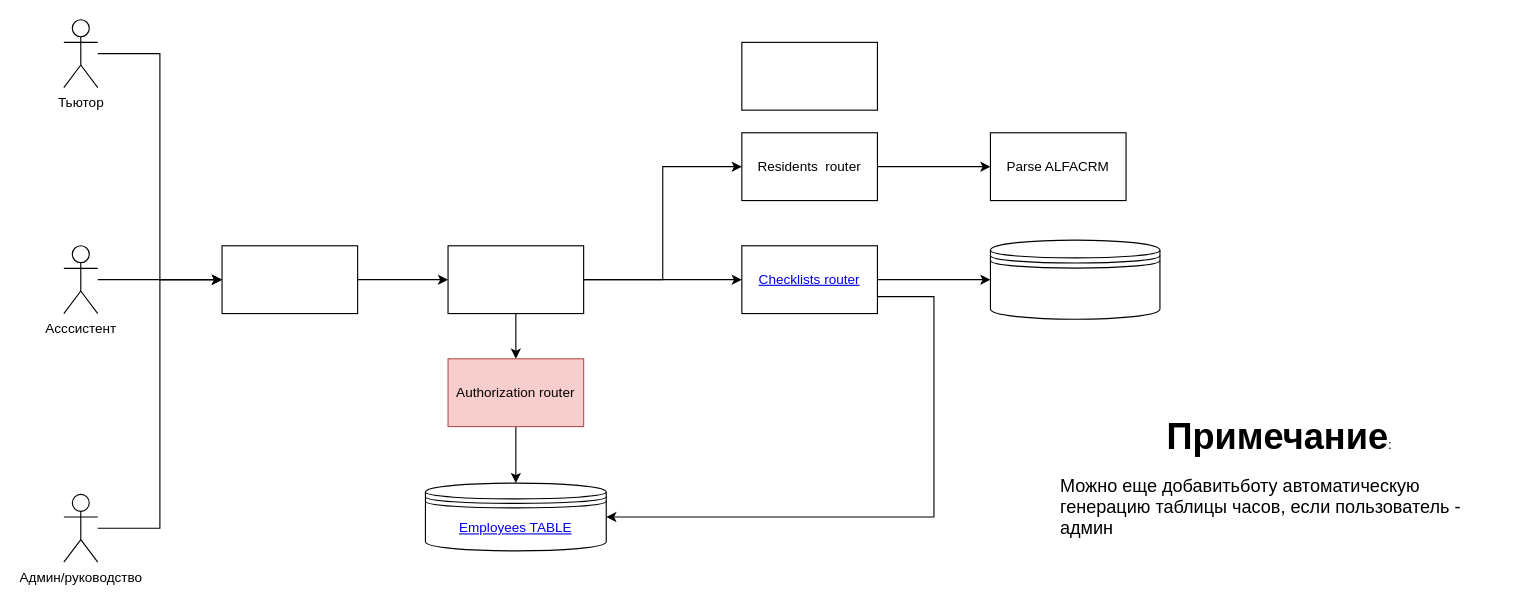
Some shapes in this 1519 by 616 pixel diagram are drawn without their labels. Here are the shapes that lost their labels. From the top down, the centre of each, then its label:
the point at 809,75: Task router
the point at 289,279: Telegram
the point at 515,279: Dispatcher
the point at 1074,279: Checklist TABLE
